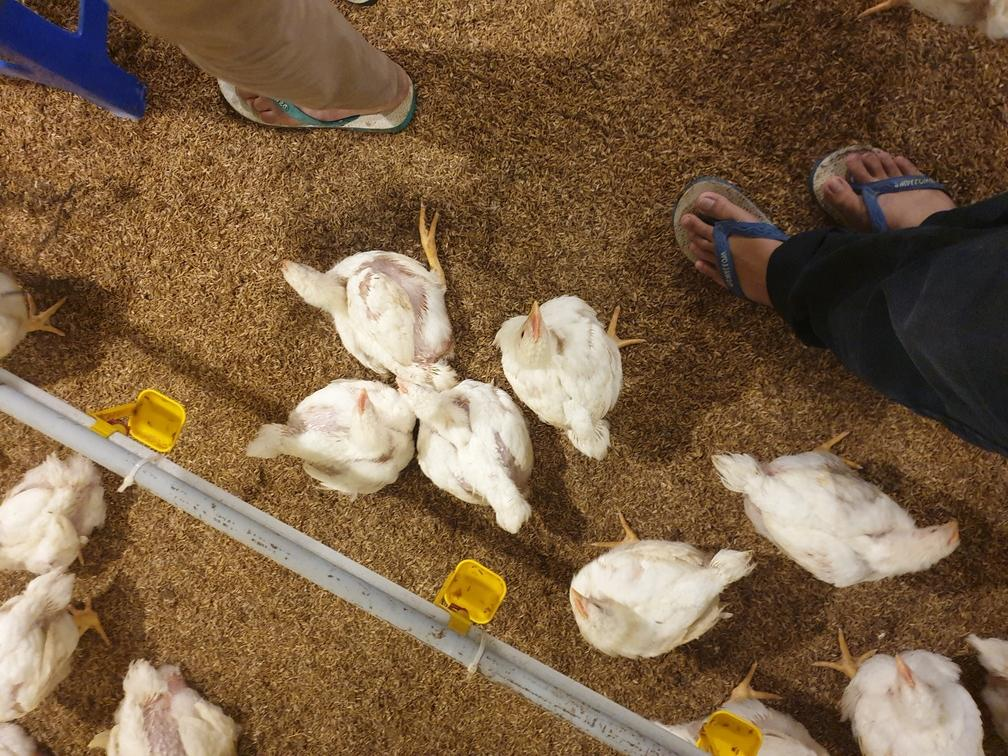Pollos: (728, 421, 964, 569), (558, 526, 757, 663), (291, 217, 454, 376), (395, 363, 539, 529), (504, 296, 628, 453), (849, 647, 985, 756), (276, 390, 406, 502)
